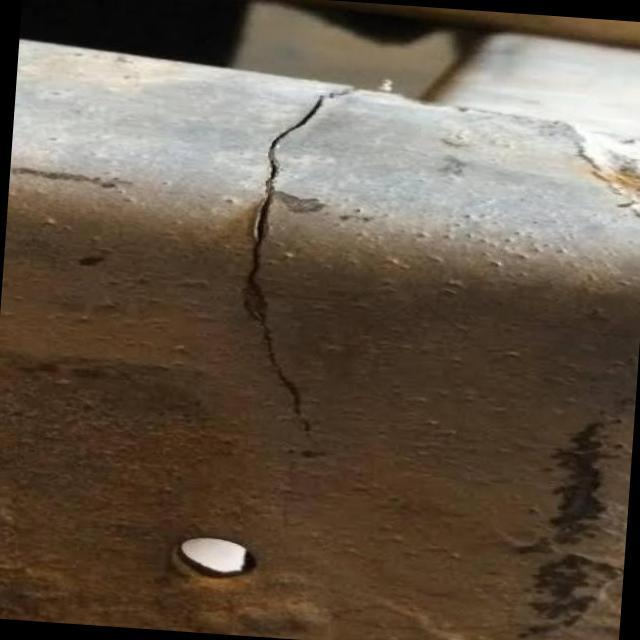defect: (241, 82, 362, 458)
